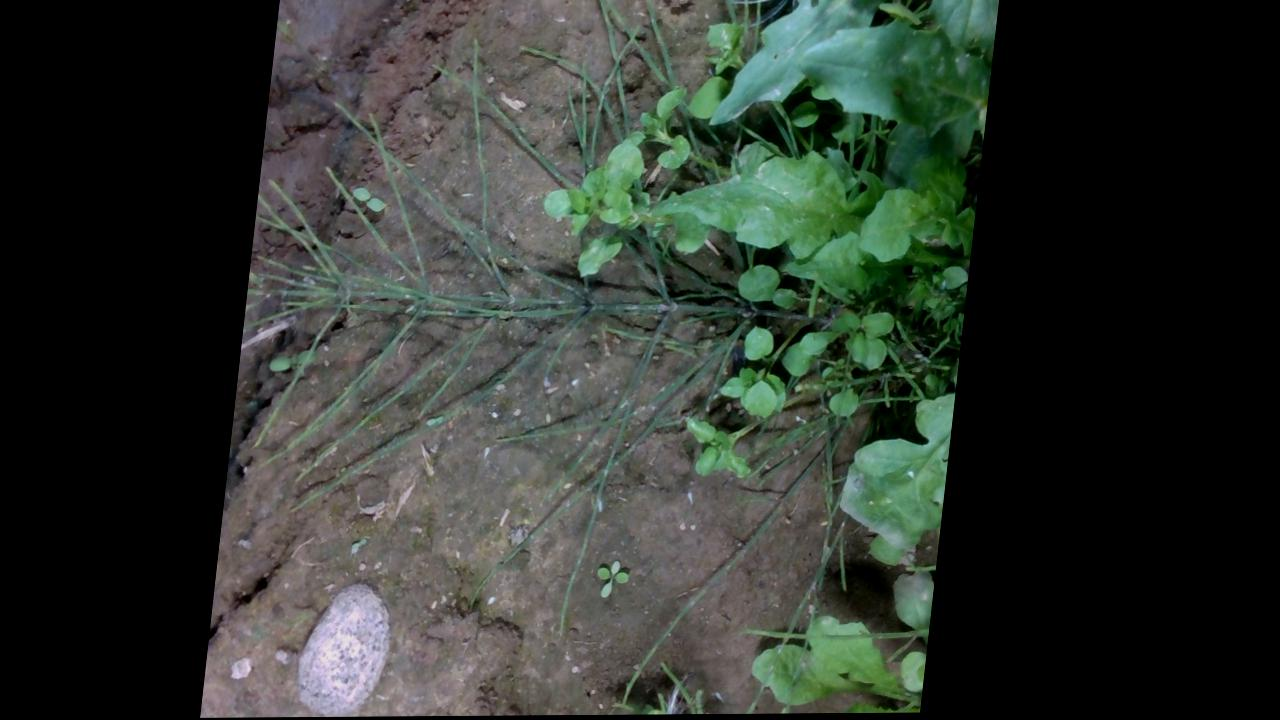weed: (606, 561, 644, 603)
